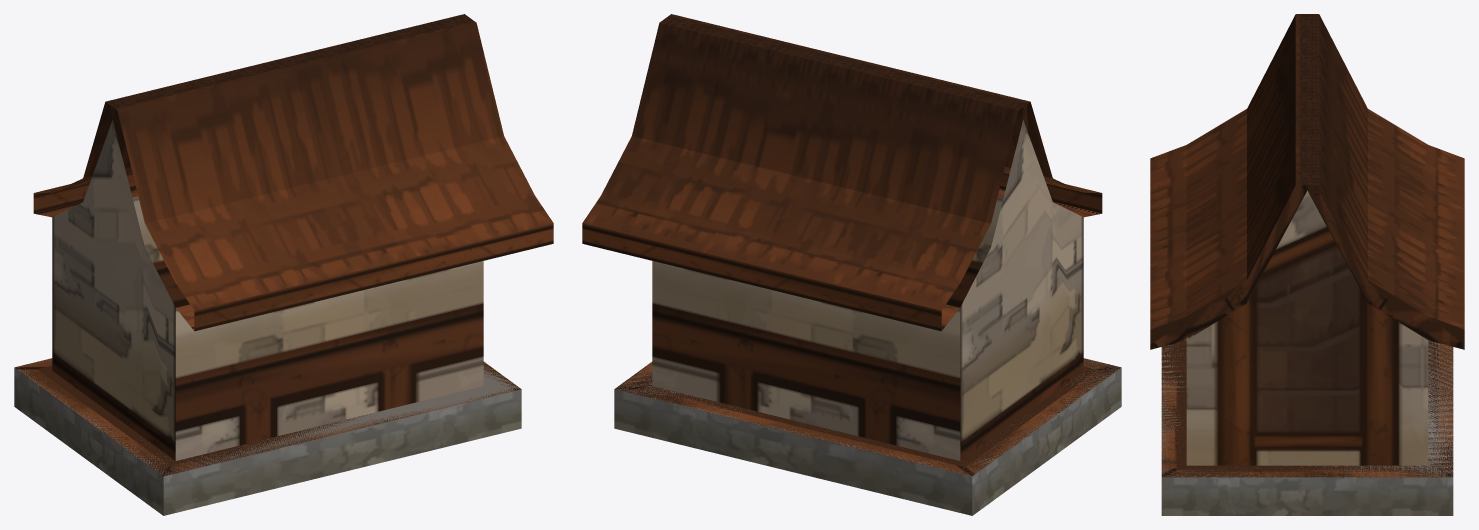
File: RoofWindow3.fbx
3 renders of one model, left to right at view 1: azimuth 30°, elevation 25°; view 2: azimuth 150°, elevation 25°; view 3: azimuth 270°, elevation 25°, orthographic. The views are drawn at different scales.
Visible parts, largest first — view 1: Roof Window 3, Roof Window 3_col; view 2: Roof Window 3, Roof Window 3_col; view 3: Roof Window 3, Roof Window 3_col.
Part boxes in pixels (x1,y1,x2,y2): Roof Window 3: (14, 14, 553, 515); Roof Window 3_col: (15, 359, 520, 475); Roof Window 3: (582, 14, 1121, 515); Roof Window 3_col: (615, 358, 1120, 476); Roof Window 3: (1150, 14, 1464, 515); Roof Window 3_col: (1161, 340, 1453, 477).
Size of the model in its own units: 276 by 240 by 200.
